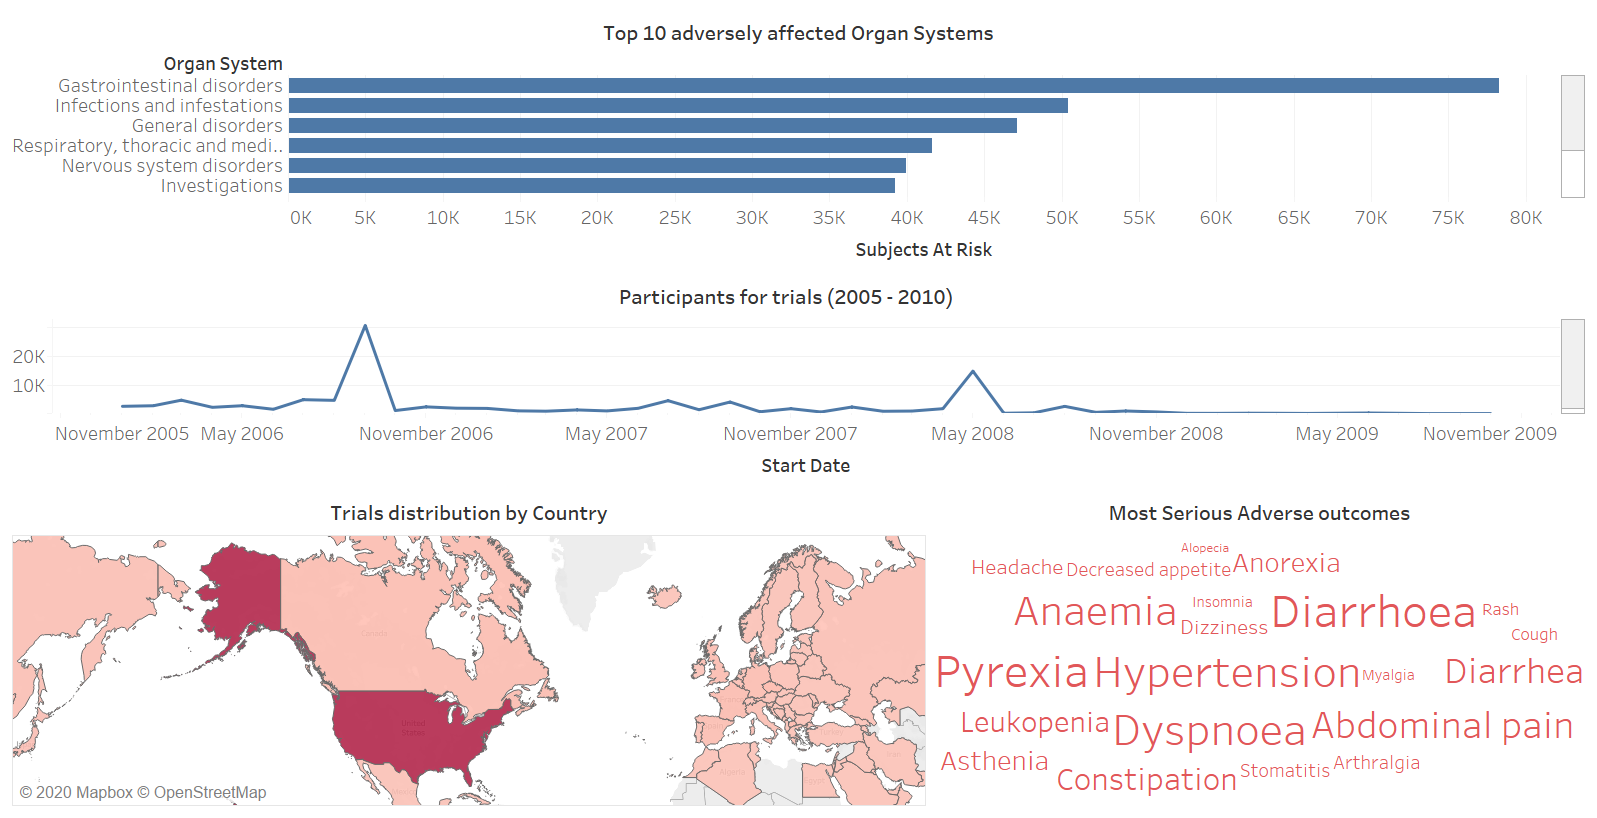

This screenshot's page, from the dashboard's own definition file:
{"tool":"tableau","page":{"name":"Aggregated Analysis of Clinical trials","canvas":[1000,1000],"units":"permille","ordinal":0},"visuals":[{"type":"worksheet","box":[0,0,1000,1000]},{"type":"worksheet","param":"vert","box":[5,9.8,990,980.4]},{"type":"worksheet","param":"horz","box":[5,9.8,990,980.4]},{"type":"worksheet","box":[5,9.8,990,980.4]},{"type":"worksheet","title":"top10organSystems","mark":"Automatic","rows":["organ_system"],"cols":["subjects_at_risk"],"box":[5,9.8,990,322.7]},{"type":"worksheet","title":"totalParticipants_2005_2010","mark":"Automatic","rows":["enrollment"],"cols":["start_date"],"box":[5,332.4,990,264.1]},{"type":"worksheet","title":"TrialsDistributionByCountry","mark":"Multipolygon","box":[5,596.5,577.3,393.7]},{"type":"worksheet","title":"seriousAdverseOutcomes","mark":"Text","box":[582.3,596.5,412.7,393.7]}]}

Visuals, with their boxes on the dashboard's canvas, which has no fixed pixel size, in thousandths of its width and height (x1, y1, x2, y2). These are canvas units, not pixel positions in the 1597x818 screenshot, which may show the page scaled, cropped or inside an application window:
worksheet: [0,0,1000,1000]
worksheet: [5,10,995,990]
worksheet: [5,10,995,990]
worksheet: [5,10,995,990]
"top10organSystems" worksheet: [5,10,995,332]
"totalParticipants_2005_2010" worksheet: [5,332,995,596]
"TrialsDistributionByCountry" worksheet (Multipolygon marks): [5,596,582,990]
"seriousAdverseOutcomes" worksheet (Text marks): [582,596,995,990]
